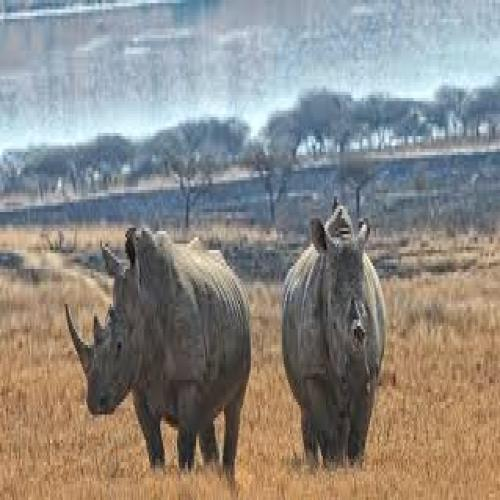rhino-endangered: (67, 220, 250, 474), (280, 212, 386, 467)
